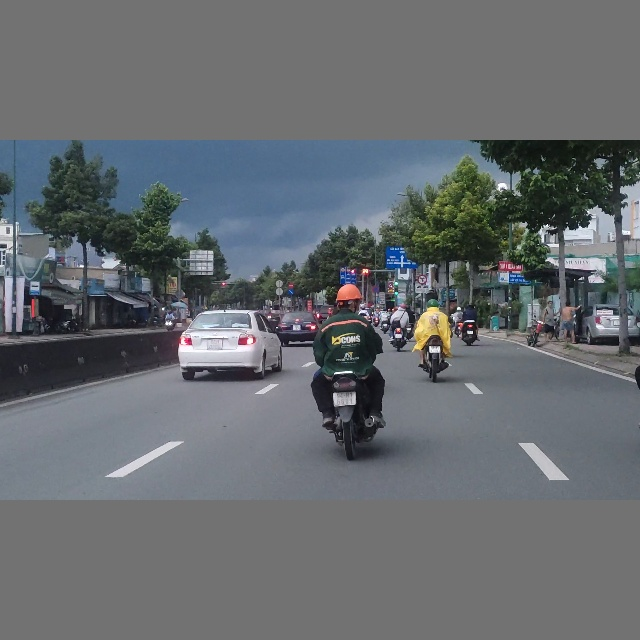P.102: (288, 283, 294, 289)
P.137: (418, 275, 427, 284)
R.302a: (288, 289, 294, 295)
R.415a: (340, 272, 356, 285)
